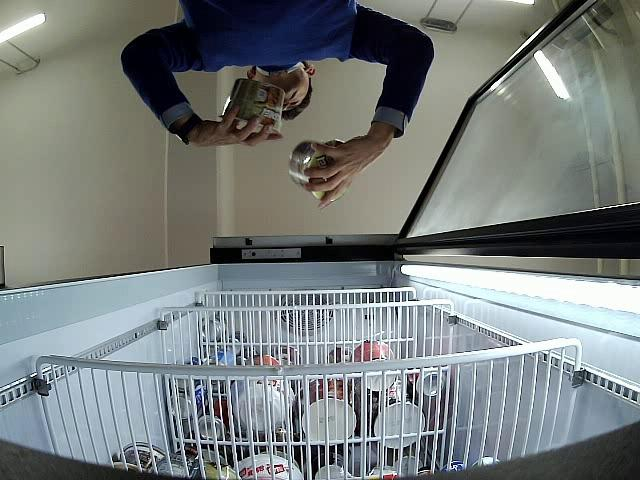00_hand: (302, 135, 393, 210), (201, 103, 284, 147)
03_chapagetti_L: (216, 78, 285, 132), (288, 139, 346, 200)
